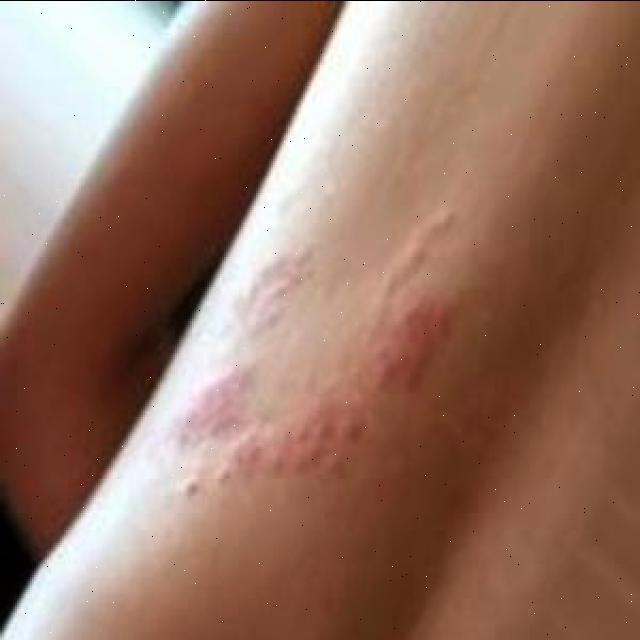Shingles: (159, 203, 463, 491)
